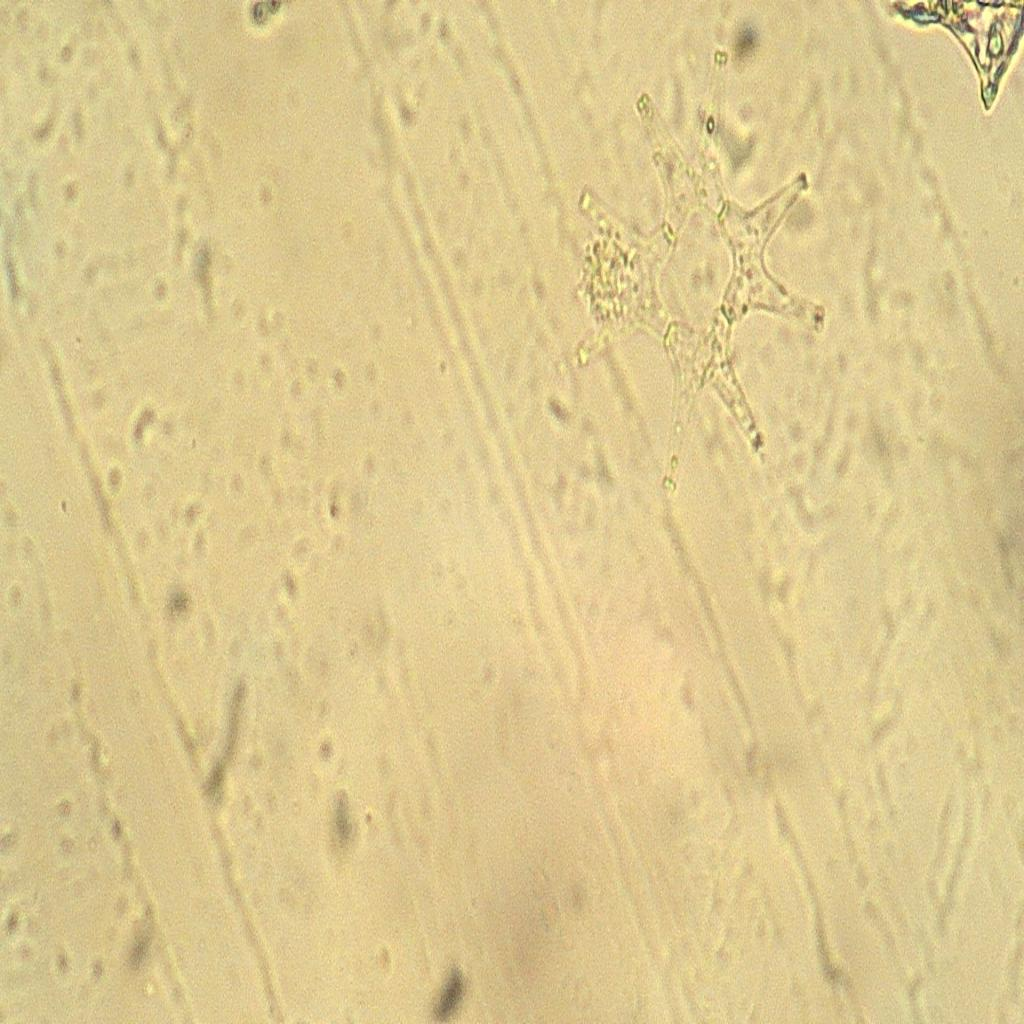Pediastrum_75TH: (534, 41, 855, 505)
